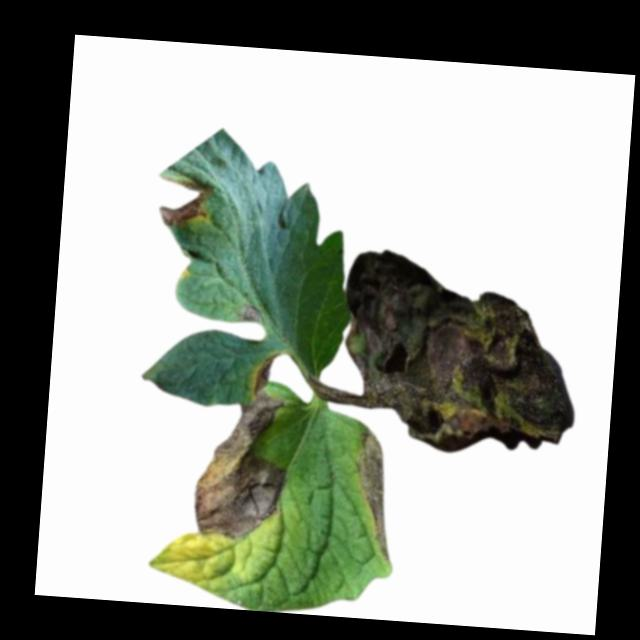Early_blight: (335, 247, 584, 461), (190, 391, 289, 545), (350, 429, 398, 561), (156, 173, 214, 230), (252, 350, 285, 396), (239, 304, 263, 324)
